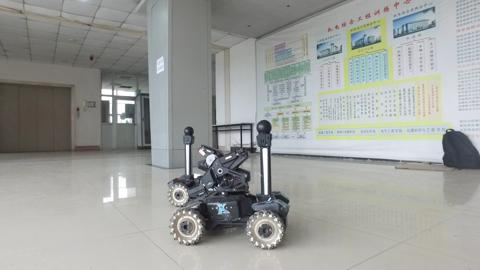chariot: (170, 113, 303, 247), (165, 122, 242, 207)
